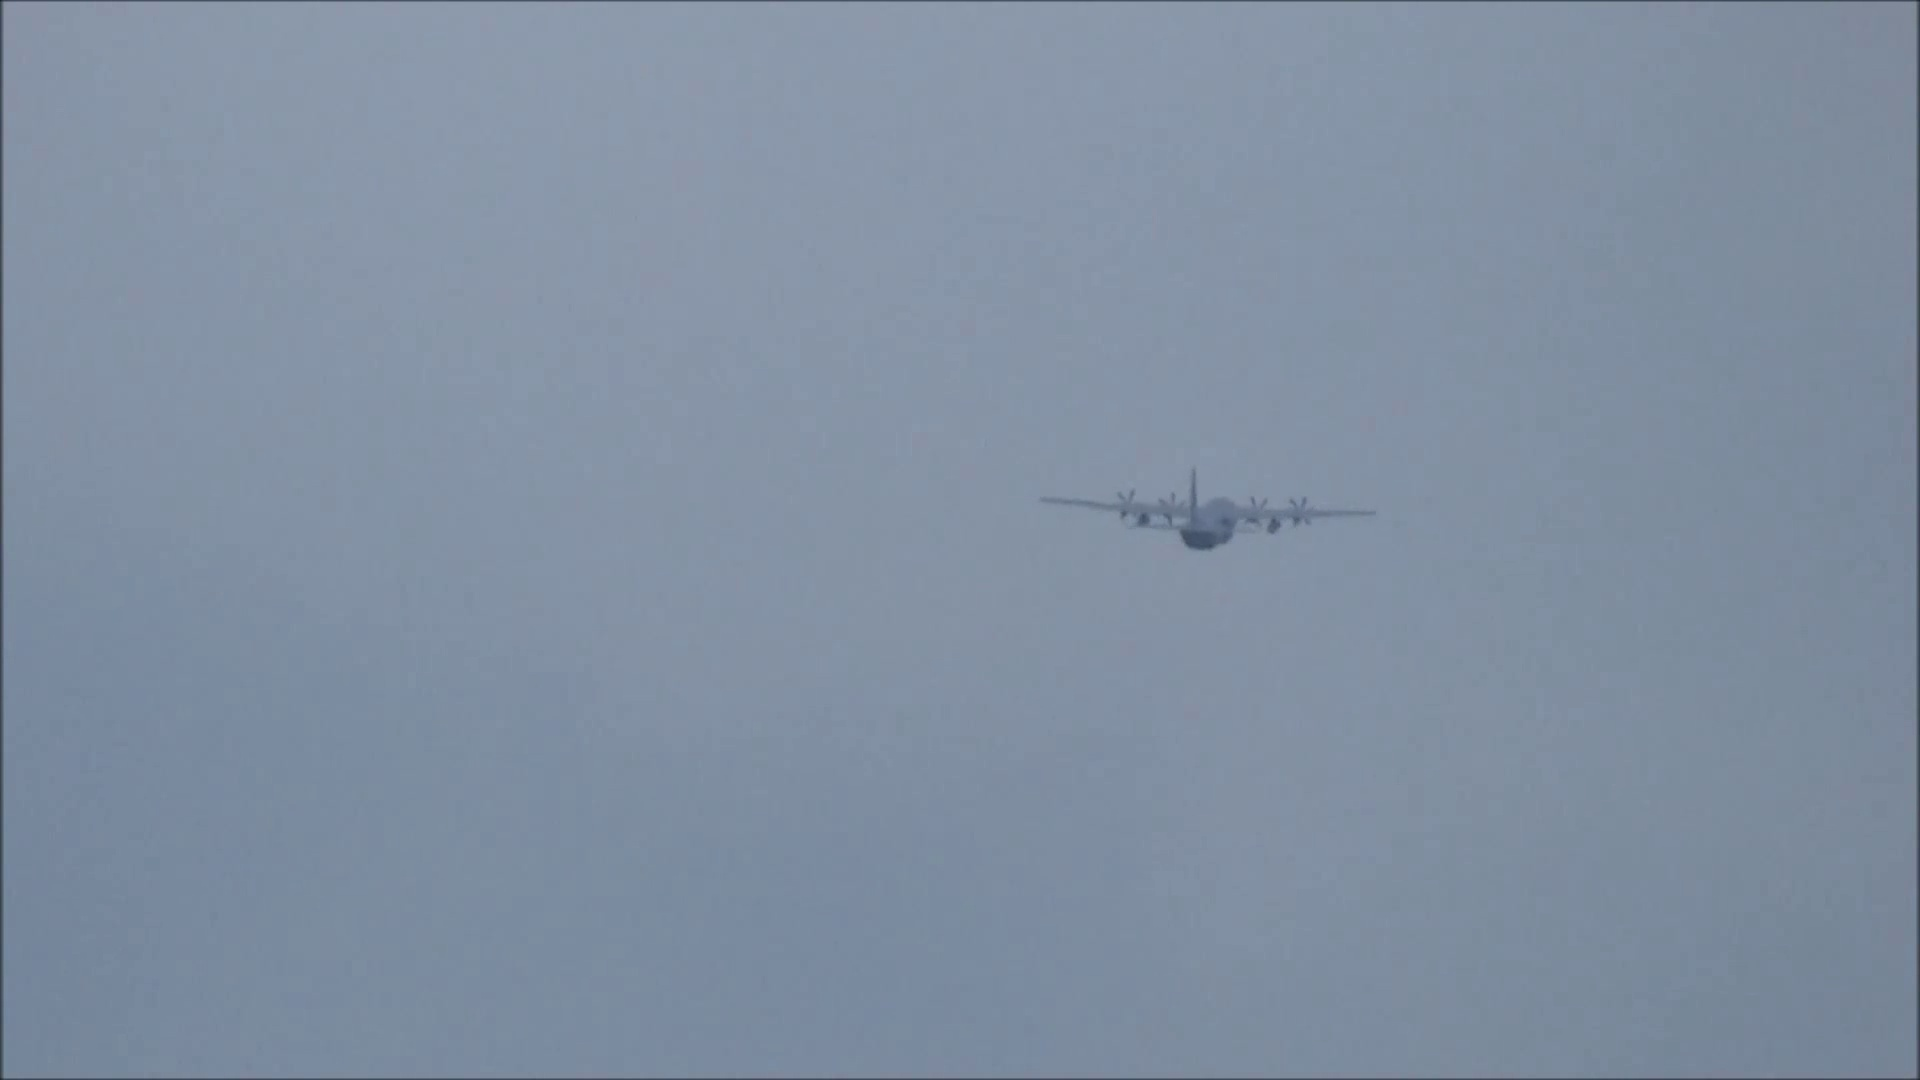Airplane: (1031, 460, 1391, 555)
